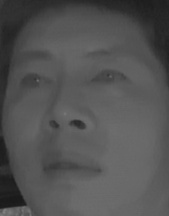eye: (89, 67, 128, 90), (19, 71, 54, 94)
mouth: (39, 144, 104, 187)
